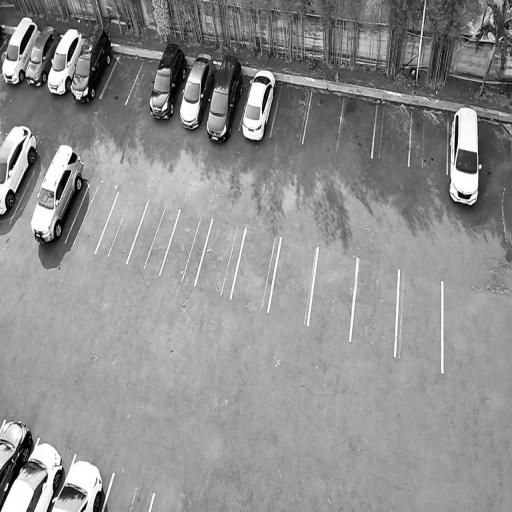Car: (25, 138, 92, 248), (0, 436, 67, 512), (200, 49, 248, 148), (0, 117, 42, 229), (67, 19, 118, 106), (173, 43, 218, 135), (146, 39, 191, 123), (448, 105, 483, 209), (0, 414, 37, 512), (49, 453, 108, 512), (239, 62, 280, 144), (43, 25, 87, 98), (0, 14, 41, 90), (23, 22, 62, 89)
Space Available: (395, 269, 442, 371), (350, 258, 399, 355), (308, 245, 358, 340), (268, 236, 318, 324), (230, 227, 281, 309), (195, 218, 246, 297), (160, 208, 212, 285), (127, 199, 180, 273), (94, 191, 148, 262), (66, 181, 118, 251), (409, 110, 449, 175), (372, 104, 412, 165), (302, 91, 344, 149), (271, 84, 312, 143), (337, 98, 377, 158), (100, 52, 143, 104), (11, 168, 48, 227), (104, 472, 155, 512), (126, 61, 158, 108)
